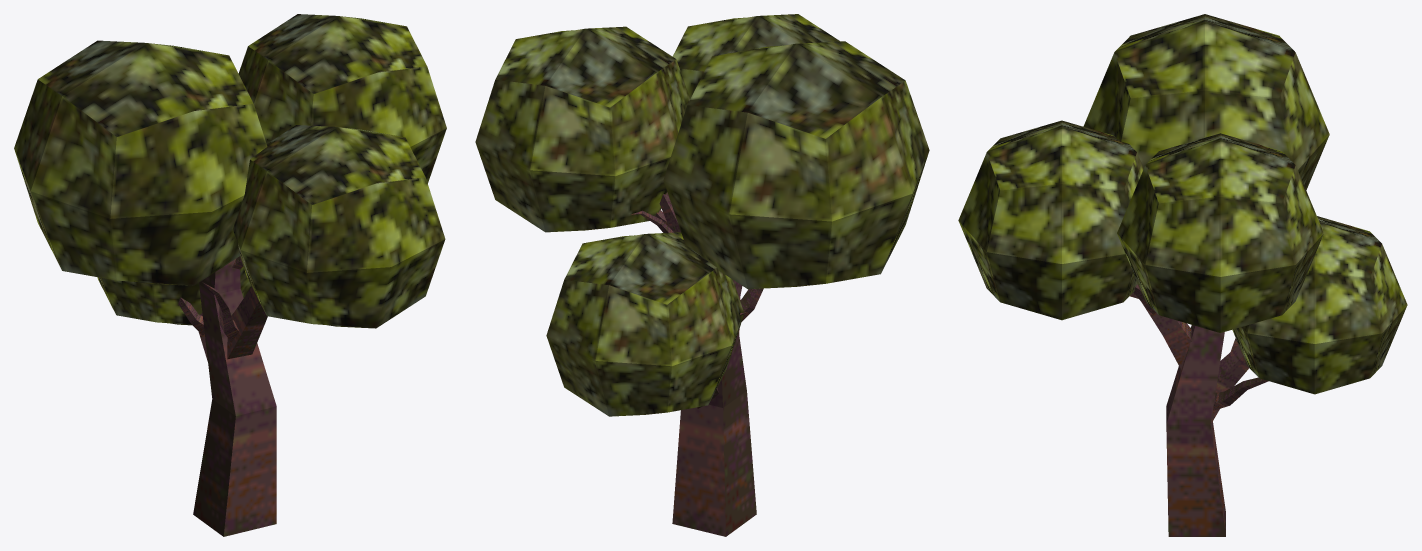
Rendered from Tree2.fbx.
3 views of the same model, side by side, from view 1: azimuth 30°, elevation 25°; view 2: azimuth 150°, elevation 25°; view 3: azimuth 270°, elevation 25° (orthographic). The views are drawn at different scales.
Visible parts, largest first — view 1: Cube.061; view 2: Cube.061; view 3: Cube.061.
Part boxes in pixels (left/top/right/bottom): Cube.061: left=14, top=14, right=446, bottom=536; Cube.061: left=475, top=14, right=929, bottom=536; Cube.061: left=958, top=14, right=1407, bottom=536.
Bounding box in the file's own units: 1550 × 1783 × 1563.
